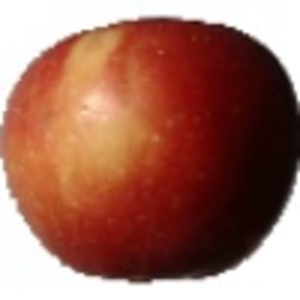maçã braeburn: (1, 11, 299, 284)
